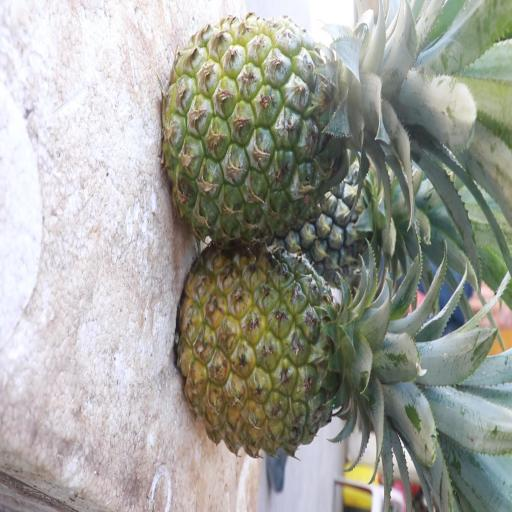------------------------------: (163, 16, 392, 250)
Pineapple - v8 v1: (183, 252, 390, 458)
